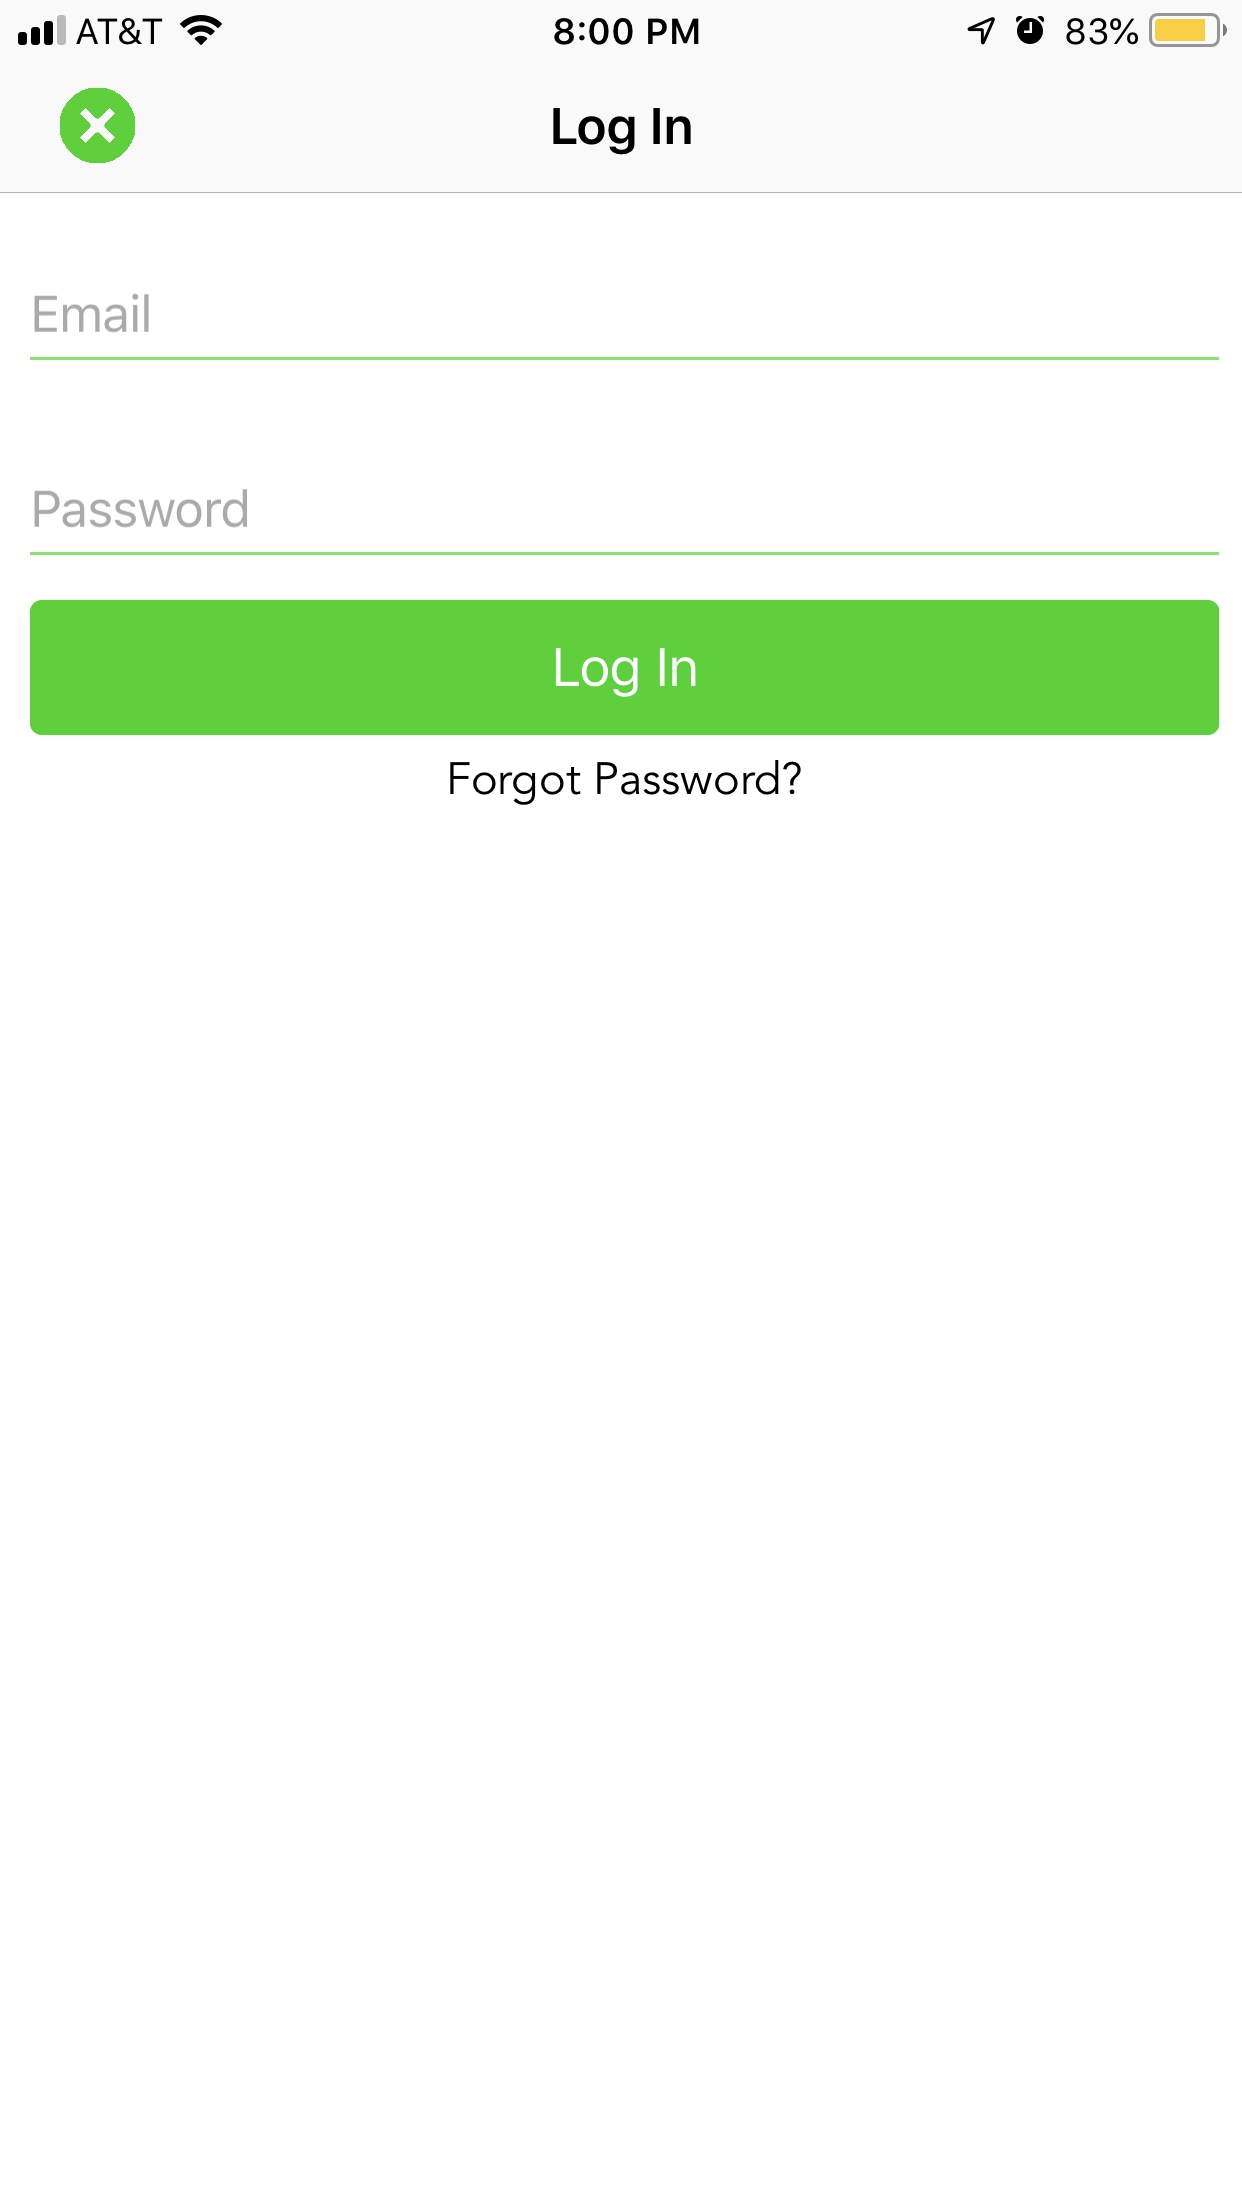EditText: (30, 488, 1219, 557), (30, 293, 1219, 361)
Icon: (61, 89, 136, 165)
Text: (450, 760, 802, 805), (33, 488, 249, 529), (554, 108, 692, 156), (33, 294, 150, 334)
TextButton: (30, 601, 1219, 735)
UpperTaskBar: (2, 2, 1242, 49)
